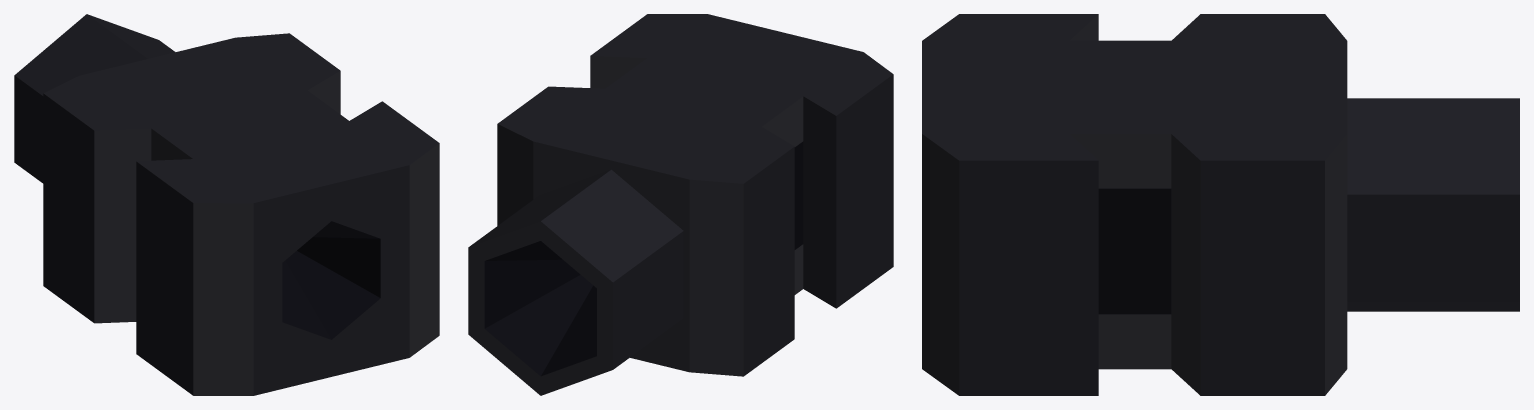
The model's file is MW1_MuzzleDevice_12ga_03.fbx.
The picture shows the model from 3 angles, left to right: view 1: azimuth 30°, elevation 25°; view 2: azimuth 150°, elevation 25°; view 3: azimuth 270°, elevation 25°; orthographic projection. The views are drawn at different scales.
Visible parts, largest first — view 1: MuzzleDevice_12ga_03; view 2: MuzzleDevice_12ga_03; view 3: MuzzleDevice_12ga_03.
Part boxes in pixels (x1,y1,x2,y2): MuzzleDevice_12ga_03: (14, 14, 439, 395); MuzzleDevice_12ga_03: (468, 14, 893, 395); MuzzleDevice_12ga_03: (922, 14, 1519, 395).
Size of the model in its own units: 4.68 by 3.5 by 8.05.
